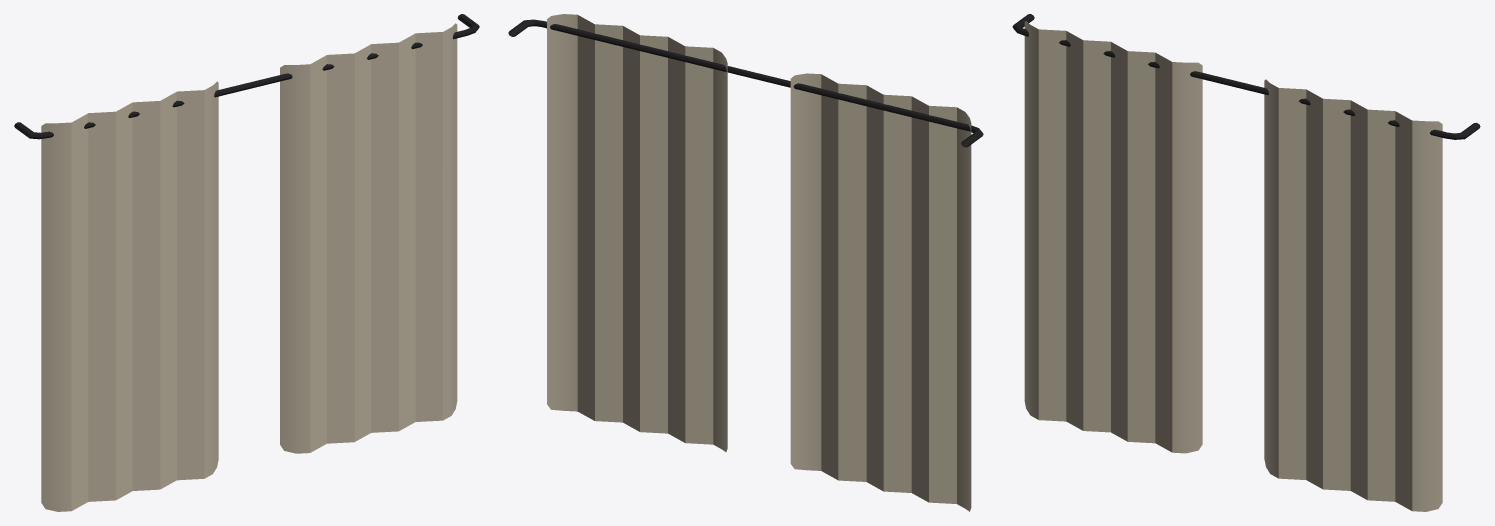
Rendered from pk_curtain_beige.glb.
The picture shows the model from 3 angles, left to right: view 1: azimuth 30°, elevation 25°; view 2: azimuth 150°, elevation 25°; view 3: azimuth 330°, elevation 25°; orthographic projection. The views are drawn at different scales.
Parts seen in each view (by area): view 1: pk_curtain_beige; view 2: pk_curtain_beige; view 3: pk_curtain_beige.
Part boxes in pixels (x1=…): pk_curtain_beige: x1=14, y1=14, x2=479, y2=511; pk_curtain_beige: x1=508, y1=14, x2=983, y2=511; pk_curtain_beige: x1=1012, y1=14, x2=1480, y2=511.
Bounding box in the file's own units: 3.4 × 2.8 × 0.3.
Materials: 1 (1 with a texture image).
